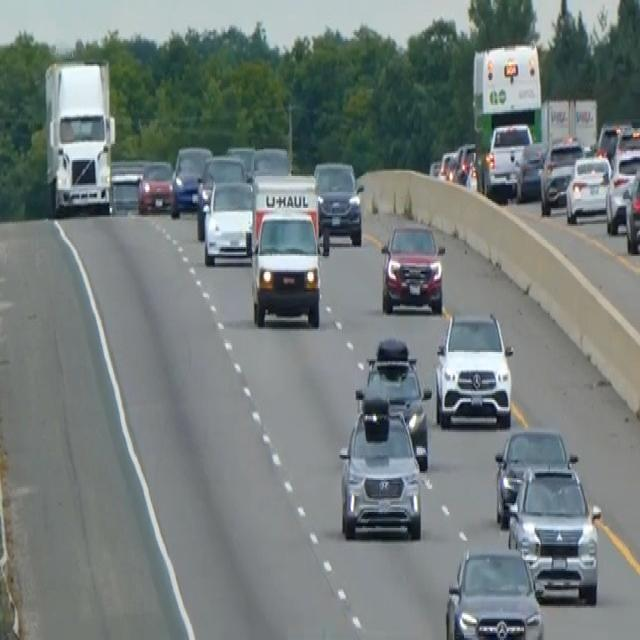car: (506, 460, 602, 604), (337, 393, 422, 540), (355, 336, 432, 469), (433, 308, 514, 430), (444, 544, 544, 638), (493, 425, 574, 526), (379, 218, 445, 314), (248, 172, 322, 256), (202, 178, 255, 265), (313, 158, 364, 247), (195, 151, 246, 238), (483, 119, 532, 196), (539, 135, 584, 215), (565, 151, 611, 224), (170, 144, 212, 217), (605, 148, 639, 235), (514, 139, 547, 201), (137, 158, 173, 214), (109, 158, 144, 212), (249, 144, 290, 180), (623, 162, 639, 254), (451, 140, 477, 185), (595, 121, 622, 162), (226, 142, 255, 176)
lorry: (42, 55, 117, 217)
minivan: (248, 204, 323, 329)
